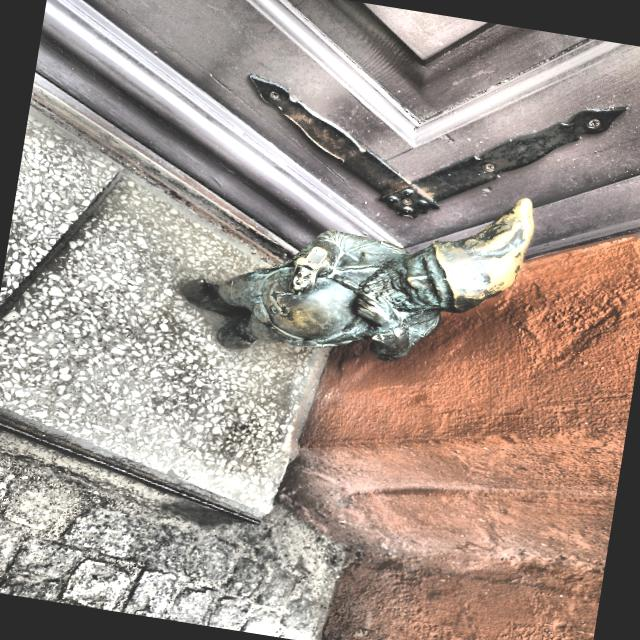TatuazystaKonstanty: (182, 199, 534, 361)
